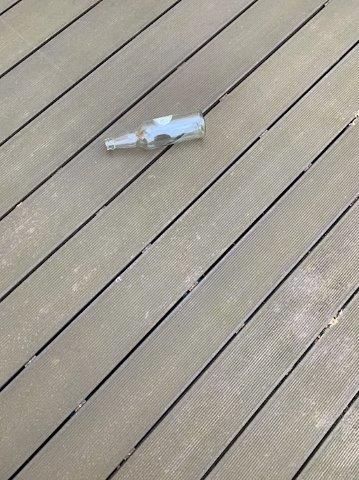botolkaca: (104, 112, 207, 151)
